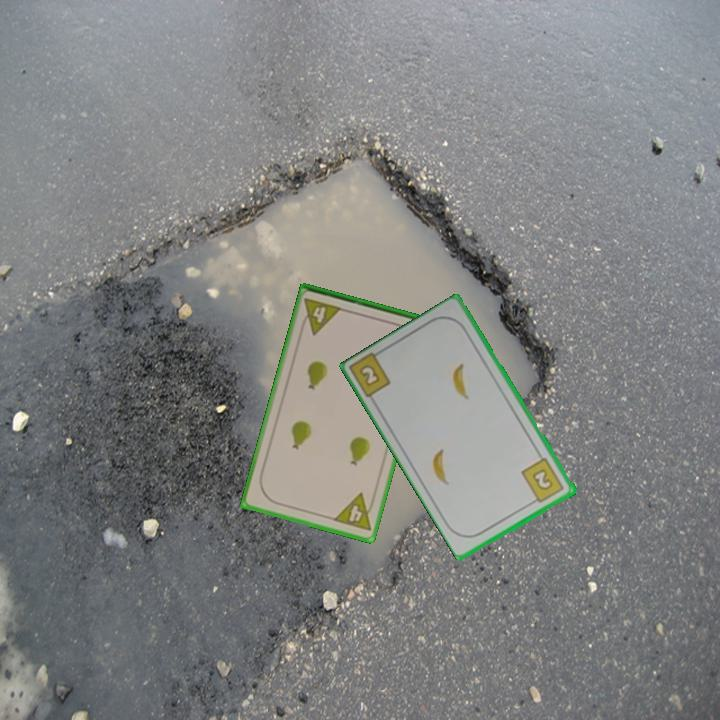2b: (518, 454, 567, 507), (356, 361, 383, 390)
4p: (330, 489, 378, 534), (297, 294, 345, 337)
